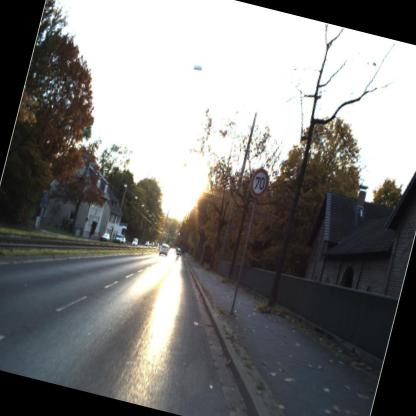prohibitory: (244, 162, 274, 204)
